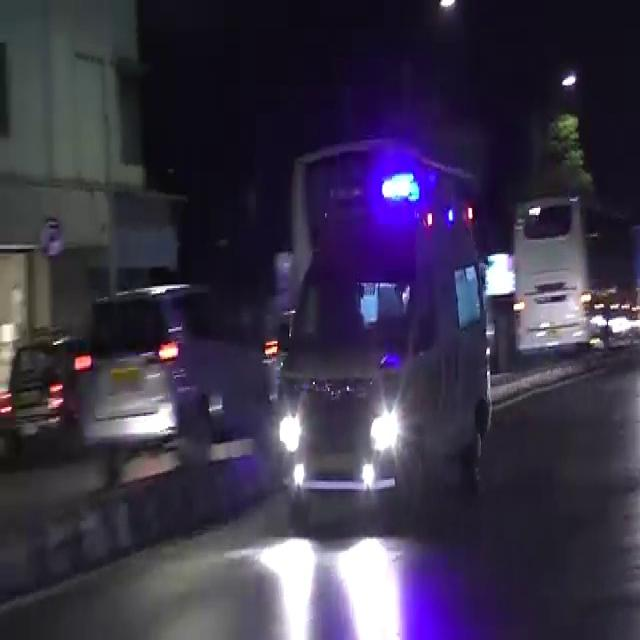ambulance: (288, 206, 504, 489)
